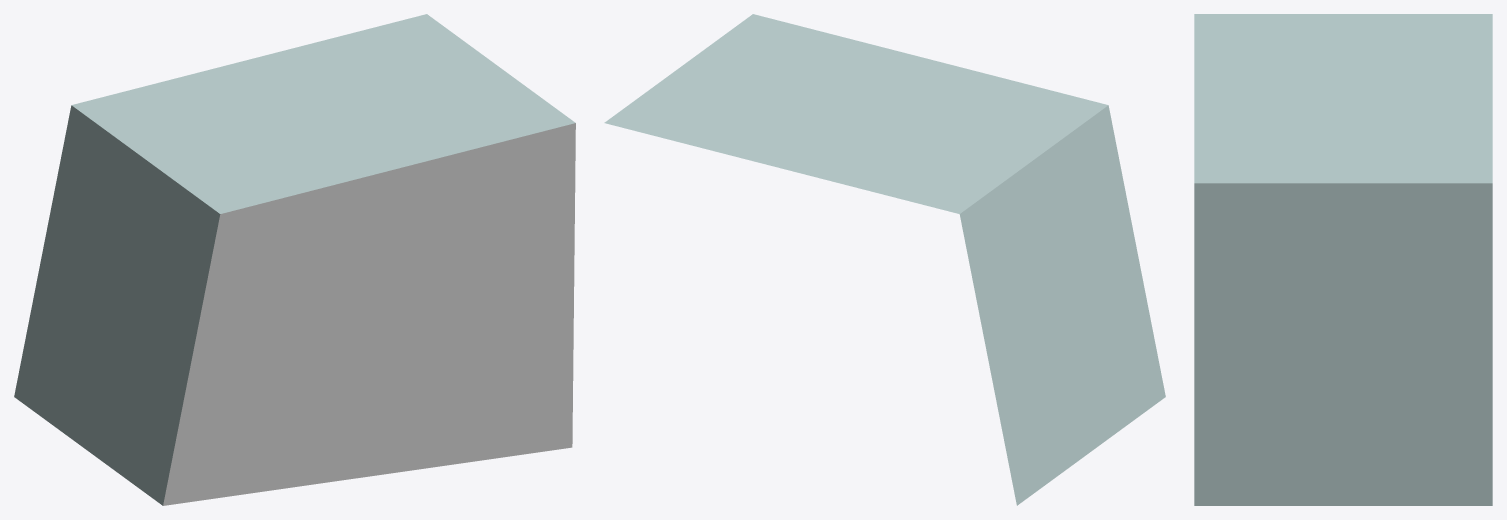
3 views of the same model, side by side, from view 1: azimuth 30°, elevation 25°; view 2: azimuth 150°, elevation 25°; view 3: azimuth 270°, elevation 25° (orthographic).
Visible parts, largest first — view 1: 0_1_0_1_2_2_2_3; view 2: 0_1_0_1_2_2_2_3; view 3: 0_1_0_1_2_2_2_3.
Part boxes in pixels (x1,y1,x2,y2): 0_1_0_1_2_2_2_3: (14,14,575,505); 0_1_0_1_2_2_2_3: (604,14,1165,505); 0_1_0_1_2_2_2_3: (1194,14,1492,505).
Bounding box in the file's own units: 4.8 × 3.6 × 3.
